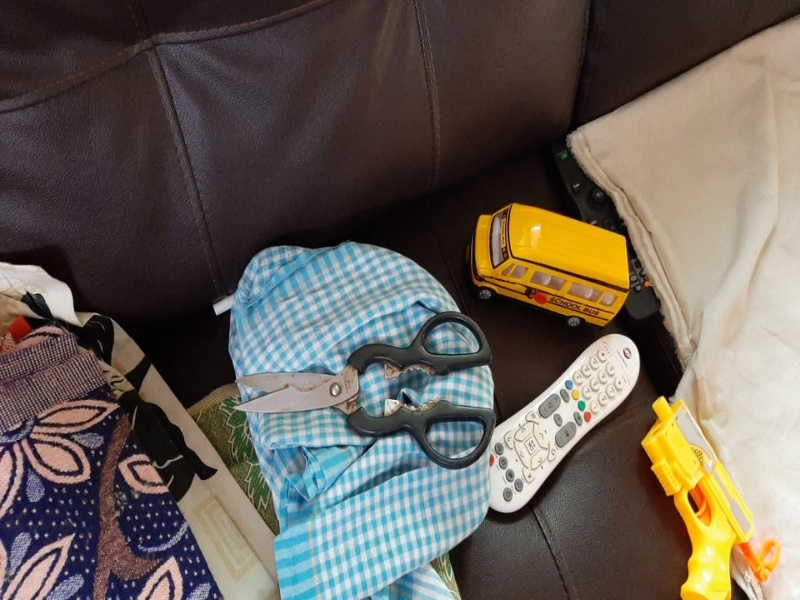scissor: (226, 305, 498, 466)
